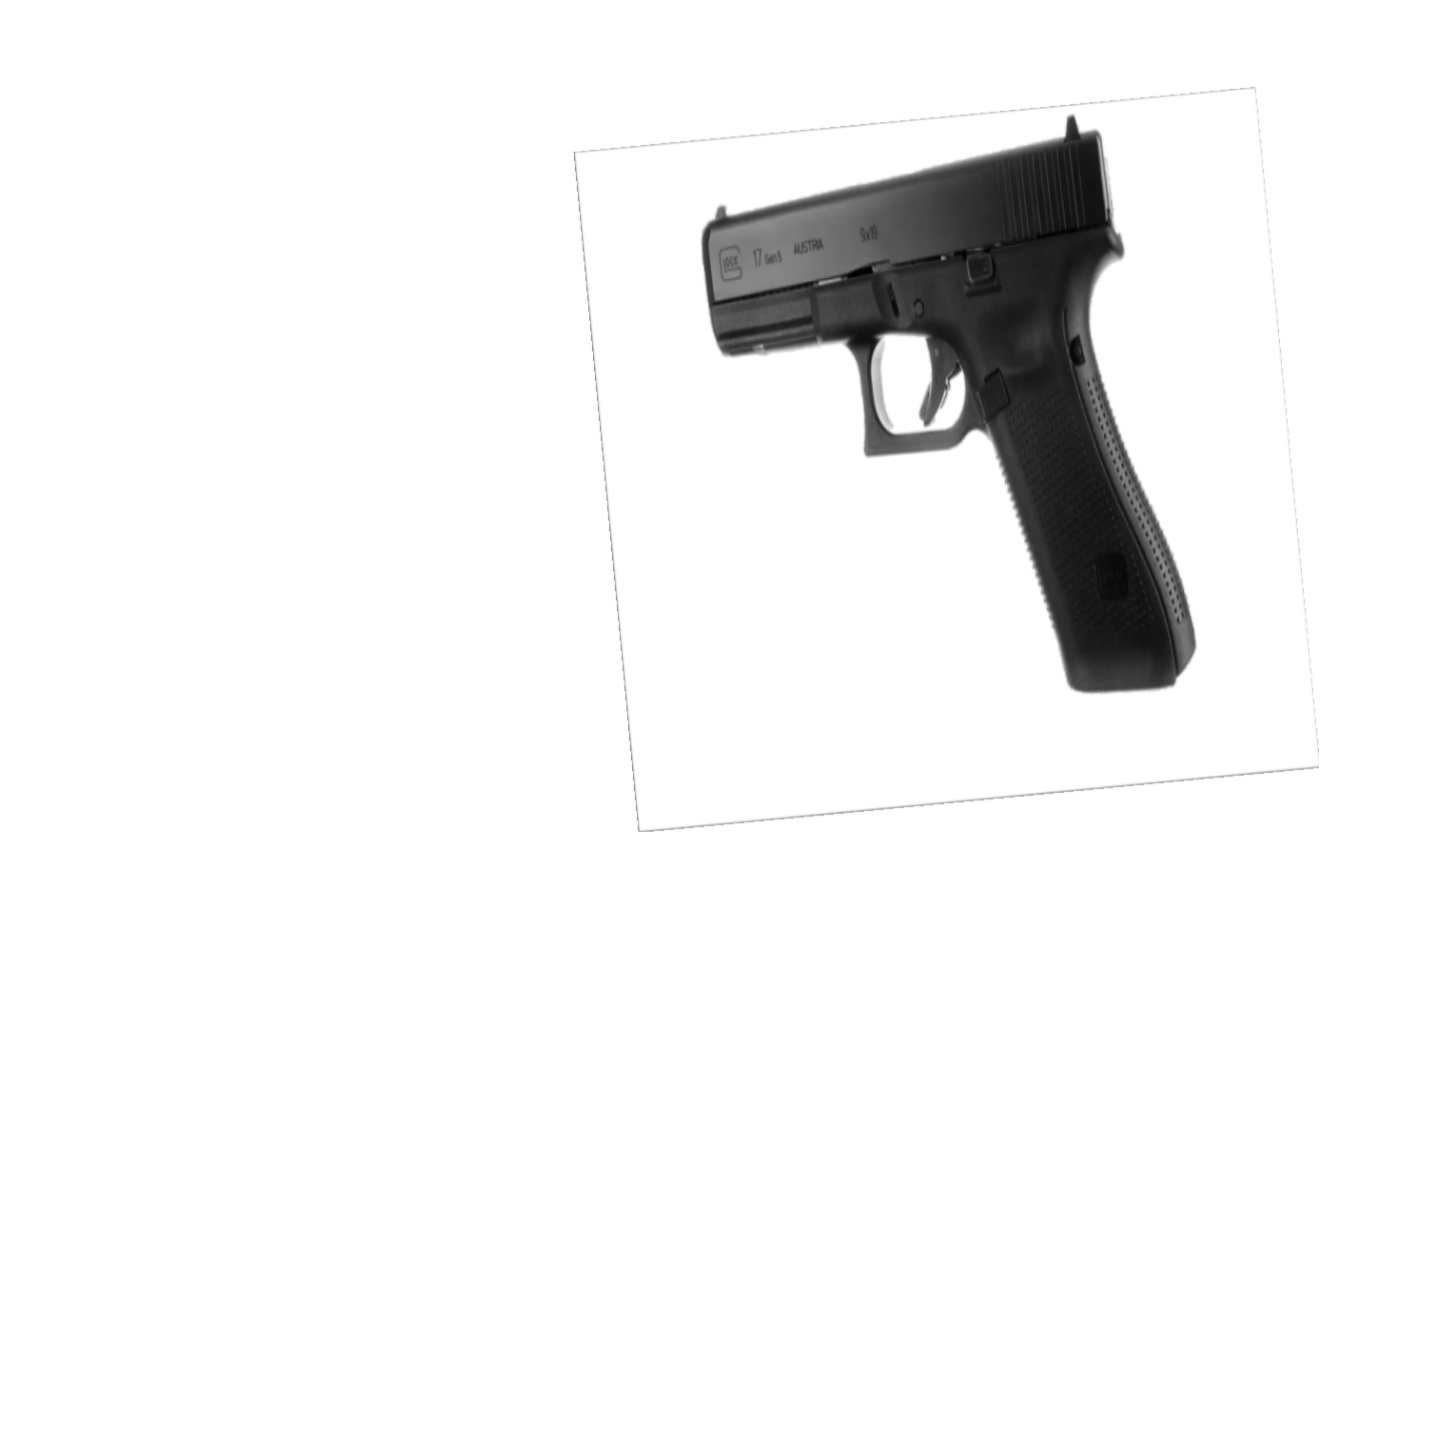gun: (702, 116, 1198, 691)
